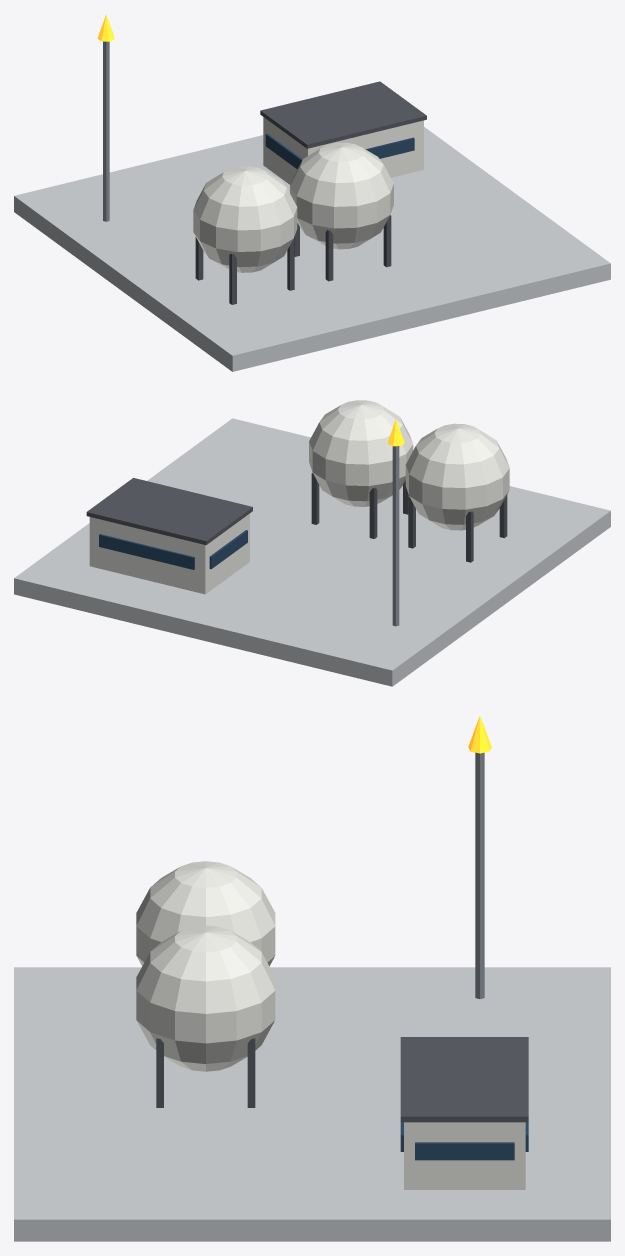
The model's file is gas_special_2.glb.
The picture shows the model from 3 angles, top to bottom: view 1: azimuth 30°, elevation 25°; view 2: azimuth 150°, elevation 25°; view 3: azimuth 270°, elevation 25°; orthographic projection. The views are drawn at different scales.
Visible parts, largest first — view 1: gas_special_2; view 2: gas_special_2; view 3: gas_special_2.
Boxes of the visible parts, x1,y1,x2,y2 form: gas_special_2: (14,14,610,371); gas_special_2: (14,400,610,686); gas_special_2: (14,716,610,1241).
Size of the model in its own units: 1.96 by 1.1 by 1.96.
